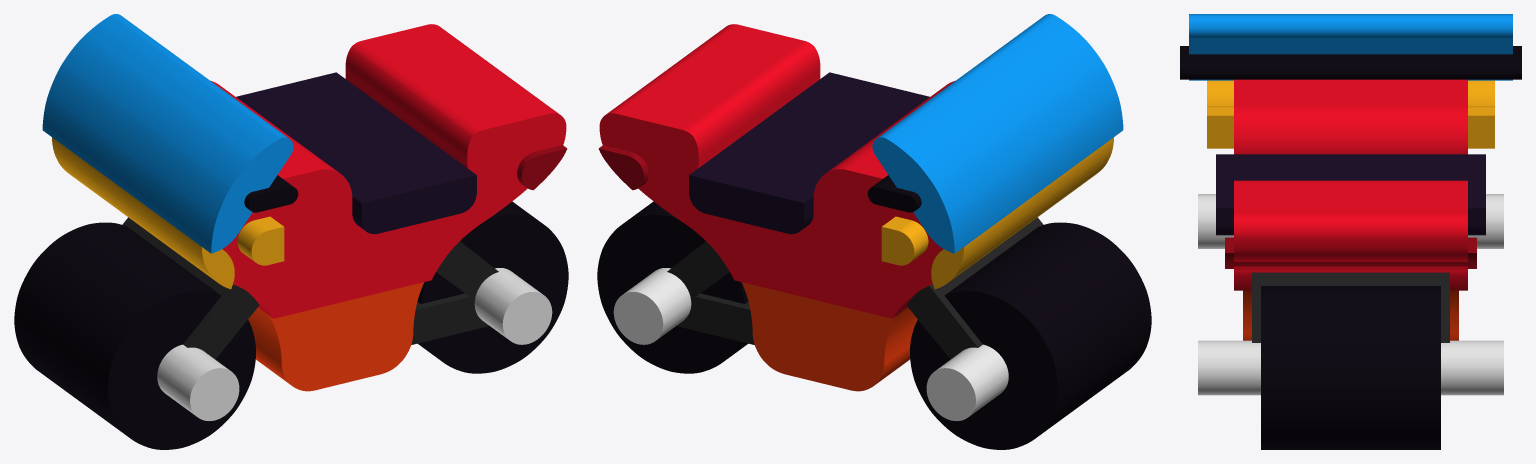
The picture shows the model from 3 angles, left to right: view 1: azimuth 30°, elevation 25°; view 2: azimuth 150°, elevation 25°; view 3: azimuth 270°, elevation 25°; orthographic projection. The views are drawn at different scales.
Visible parts, largest first — view 1: U+1F3CD_layer00_obj00, U+1F3CD_layer03_obj00, U+1F3CD_layer08_obj00, U+1F3CD_layer05_obj00, U+1F3CD_layer02_obj00, U+1F3CD_layer07_obj00, U+1F3CD_layer01_obj00, U+1F3CD_layer06_obj00, U+1F3CD_layer04_obj00, U+1F3CD_layer09_obj00; view 2: U+1F3CD_layer00_obj00, U+1F3CD_layer03_obj00, U+1F3CD_layer08_obj00, U+1F3CD_layer05_obj00, U+1F3CD_layer02_obj00, U+1F3CD_layer07_obj00, U+1F3CD_layer01_obj00, U+1F3CD_layer06_obj00, U+1F3CD_layer04_obj00, U+1F3CD_layer09_obj00; view 3: U+1F3CD_layer03_obj00, U+1F3CD_layer00_obj00, U+1F3CD_layer08_obj00, U+1F3CD_layer07_obj00, U+1F3CD_layer05_obj00, U+1F3CD_layer09_obj00, U+1F3CD_layer01_obj00, U+1F3CD_layer06_obj00, U+1F3CD_layer04_obj00, U+1F3CD_layer02_obj00.
Part boxes in pixels (x1,y1,x2,y2): U+1F3CD_layer00_obj00: (14,201,568,449); U+1F3CD_layer03_obj00: (210,24,566,318); U+1F3CD_layer08_obj00: (42,14,293,253); U+1F3CD_layer05_obj00: (236,72,476,234); U+1F3CD_layer02_obj00: (248,282,424,391); U+1F3CD_layer07_obj00: (157,268,552,420); U+1F3CD_layer01_obj00: (122,217,498,359); U+1F3CD_layer06_obj00: (52,137,284,289); U+1F3CD_layer04_obj00: (517,145,567,190); U+1F3CD_layer09_obj00: (244,175,298,212); U+1F3CD_layer00_obj00: (597,201,1151,449); U+1F3CD_layer03_obj00: (599,24,955,318); U+1F3CD_layer08_obj00: (872,14,1123,253); U+1F3CD_layer05_obj00: (689,72,929,234); U+1F3CD_layer02_obj00: (741,282,917,391); U+1F3CD_layer07_obj00: (613,268,1008,420); U+1F3CD_layer01_obj00: (667,217,1043,359); U+1F3CD_layer06_obj00: (881,137,1113,289); U+1F3CD_layer04_obj00: (598,145,648,190); U+1F3CD_layer09_obj00: (867,175,921,212); U+1F3CD_layer03_obj00: (1234,79,1467,290); U+1F3CD_layer00_obj00: (1261,286,1440,449); U+1F3CD_layer08_obj00: (1189,14,1512,80); U+1F3CD_layer07_obj00: (1198,194,1503,395); U+1F3CD_layer05_obj00: (1216,154,1485,235); U+1F3CD_layer09_obj00: (1180,46,1521,79); U+1F3CD_layer01_obj00: (1252,272,1449,342); U+1F3CD_layer06_obj00: (1207,80,1494,148); U+1F3CD_layer04_obj00: (1225,237,1476,268); U+1F3CD_layer02_obj00: (1243,290,1458,340).
Bounding box in the file's own units: 0.5678 × 0.3798 × 0.38.
